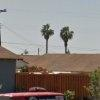Palm tree: (36, 16, 75, 52)
